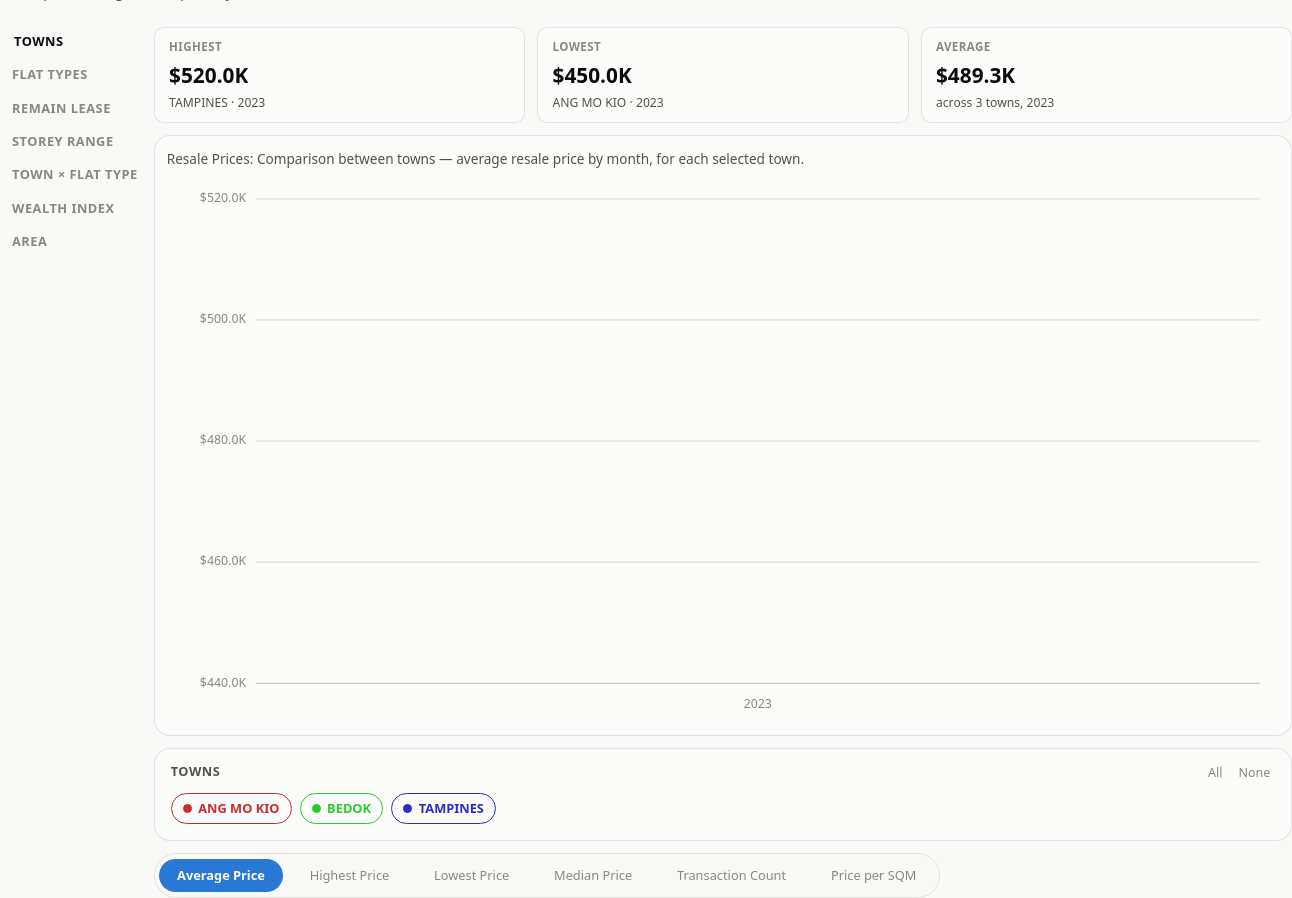
Test case: InsightsPage › switches the Towns chart to the median price view via the metric toggle
(page scrolled)
Expected: the button "BEDOK" is shown, [300, 793, 383, 824]
Click the button "Median Price": (593, 876) [536, 859, 650, 892]
(page scrolled)
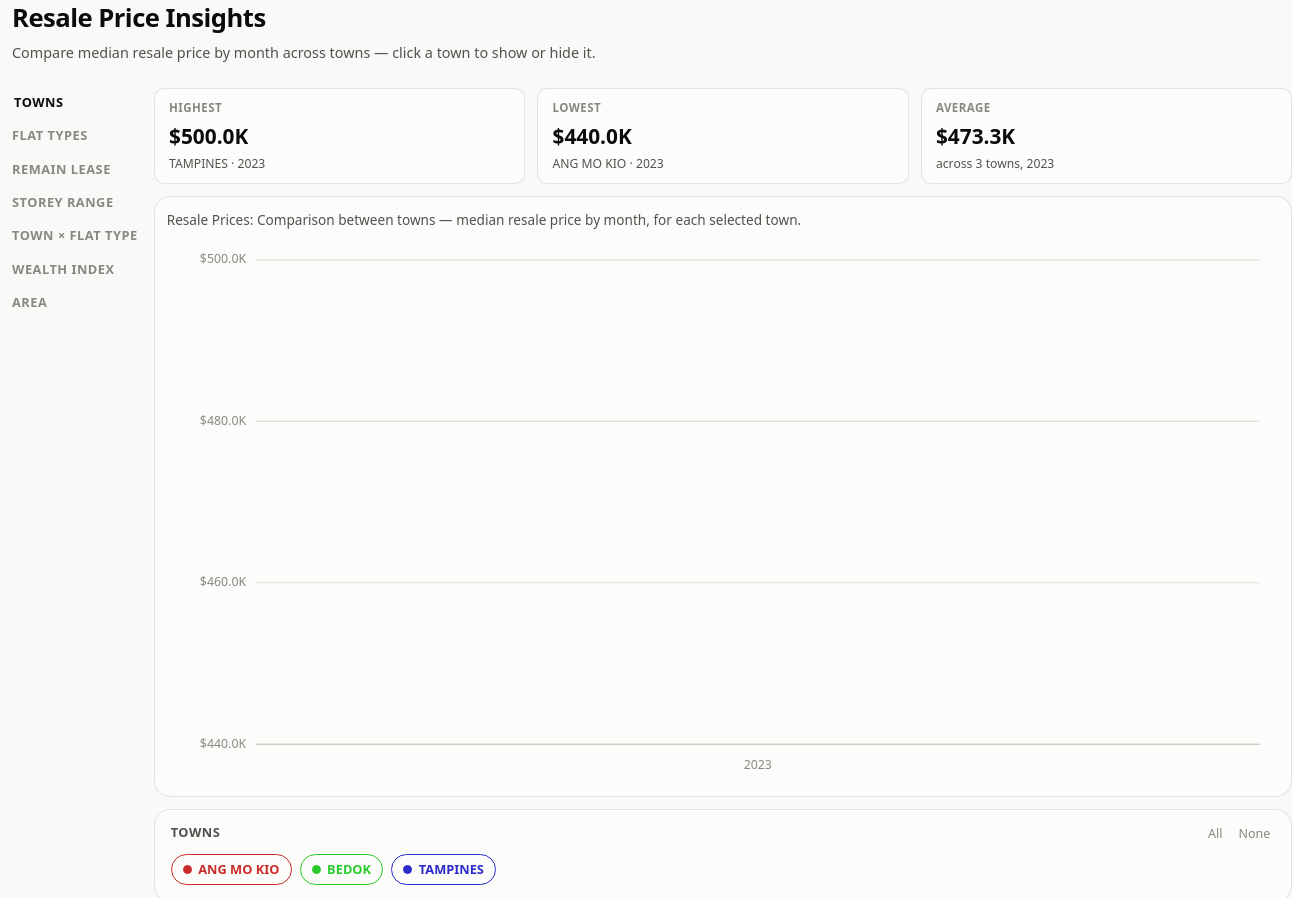
Now the picture named "median resale price comparison between towns" is shown, box [167, 240, 1279, 784]
